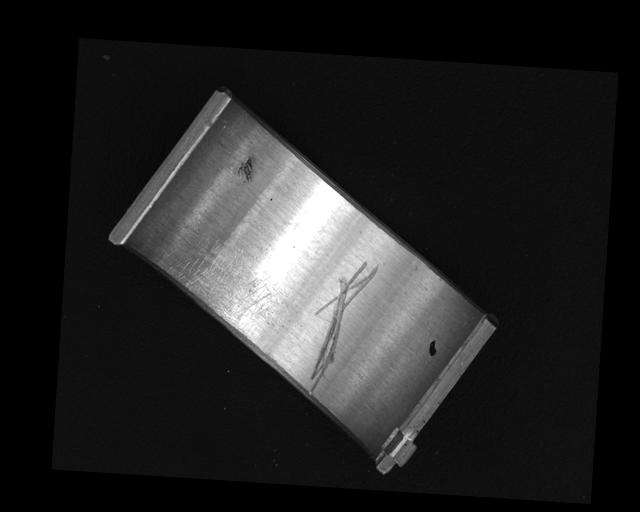blot: (427, 338, 438, 358)
bruise: (236, 155, 256, 183)
nick: (308, 258, 379, 404)
scratch: (155, 234, 283, 329)
